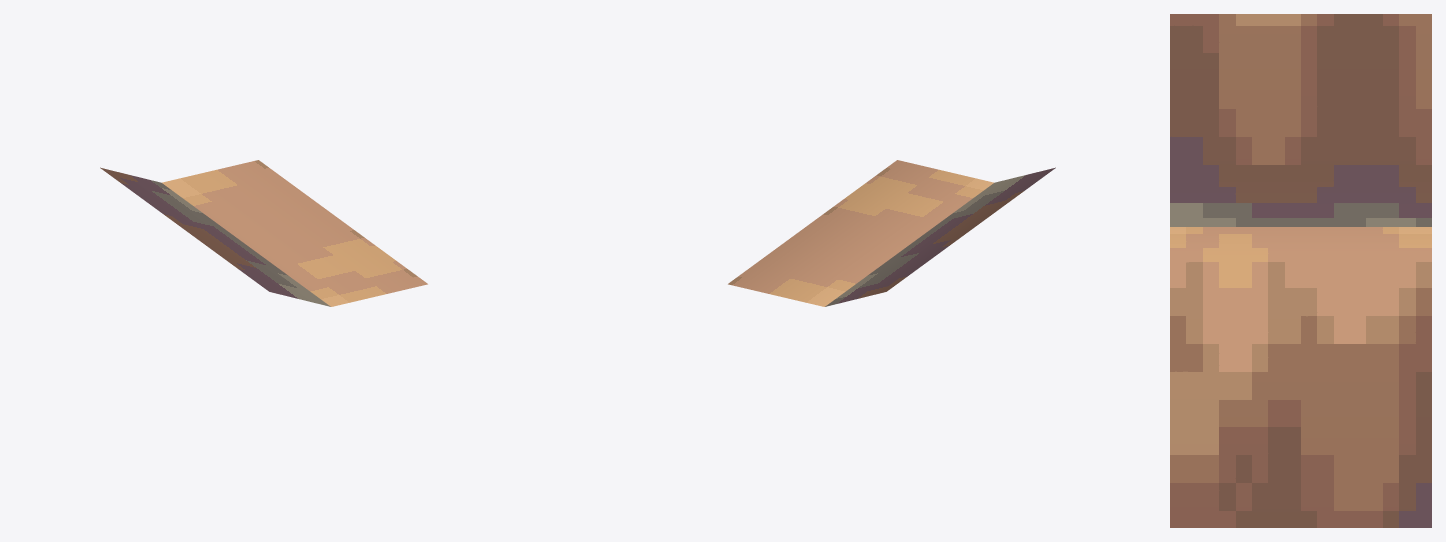
The picture shows the model from 3 angles, left to right: view 1: azimuth 30°, elevation 25°; view 2: azimuth 150°, elevation 25°; view 3: azimuth 270°, elevation 25°; orthographic projection. The views are drawn at different scales.
Bounding box in the file's own units: 1.29 × 1.57 × 1.
Materials: 1 (1 with a texture image).
